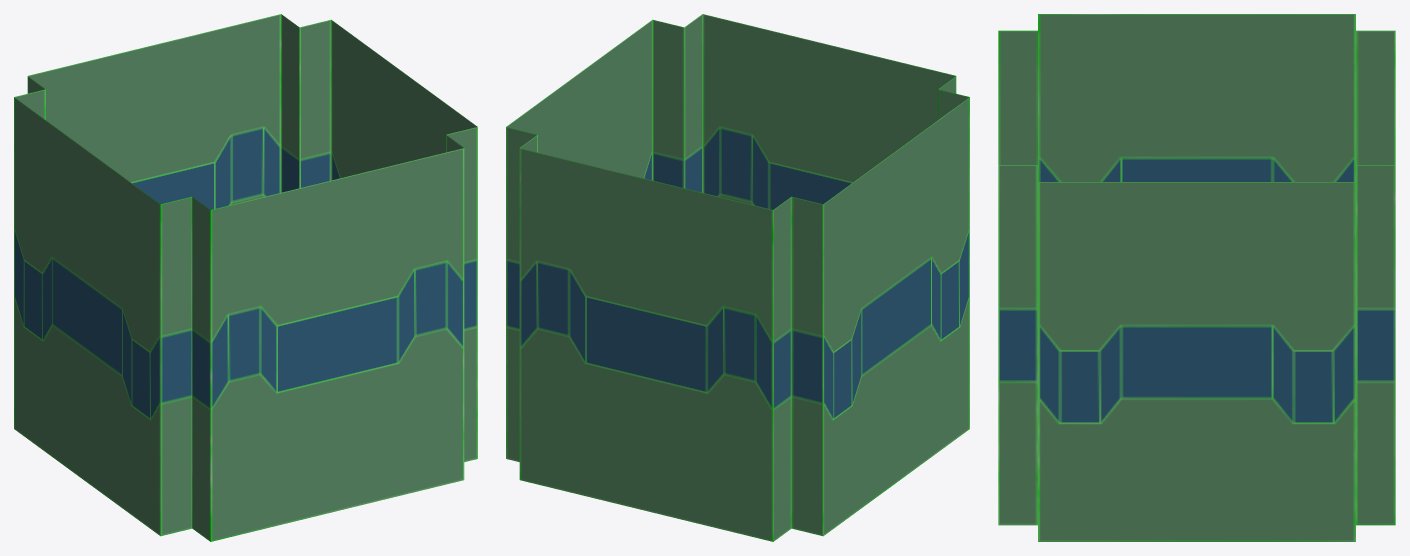
Rendered from stage.fbx.
3 renders of one model, left to right at view 1: azimuth 30°, elevation 25°; view 2: azimuth 150°, elevation 25°; view 3: azimuth 270°, elevation 25°, orthographic. The views are drawn at different scales.
Parts seen in each view (by area): view 1: stage01; view 2: stage01; view 3: stage01.
Part boxes in pixels (<box>): stage01: <box>14,14,477,541</box>; stage01: <box>506,14,969,541</box>; stage01: <box>998,14,1395,541</box>.
Size of the model in its own units: 250 by 250 by 250.
1 material, 1 textured.
